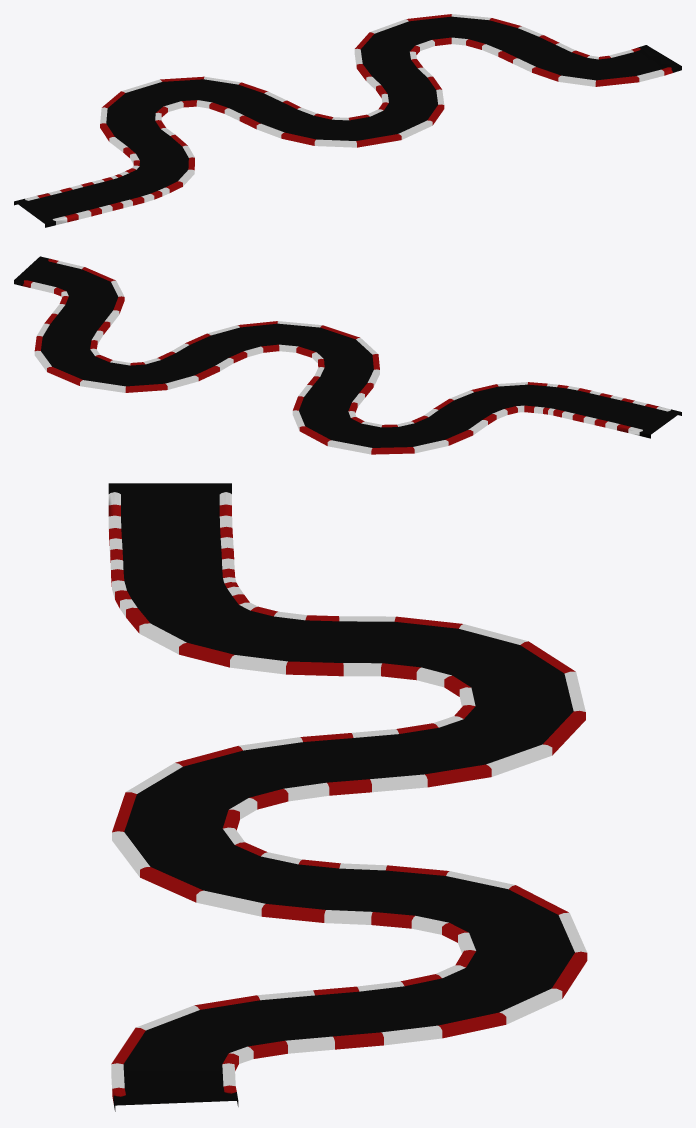
File: track - s.FBX
3 views of the same model, one above another, from view 1: azimuth 30°, elevation 25°; view 2: azimuth 150°, elevation 25°; view 3: azimuth 270°, elevation 25° (orthographic). The views are drawn at different scales.
Visible parts, largest first — view 1: 's' track; view 2: 's' track; view 3: 's' track.
Boxes of the visible parts, <box> form: 's' track: <box>14,14,681,227</box>; 's' track: <box>14,256,681,454</box>; 's' track: <box>108,483,587,1111</box>.
Bounding box in the file's own units: 334 × 2.44 × 109.
